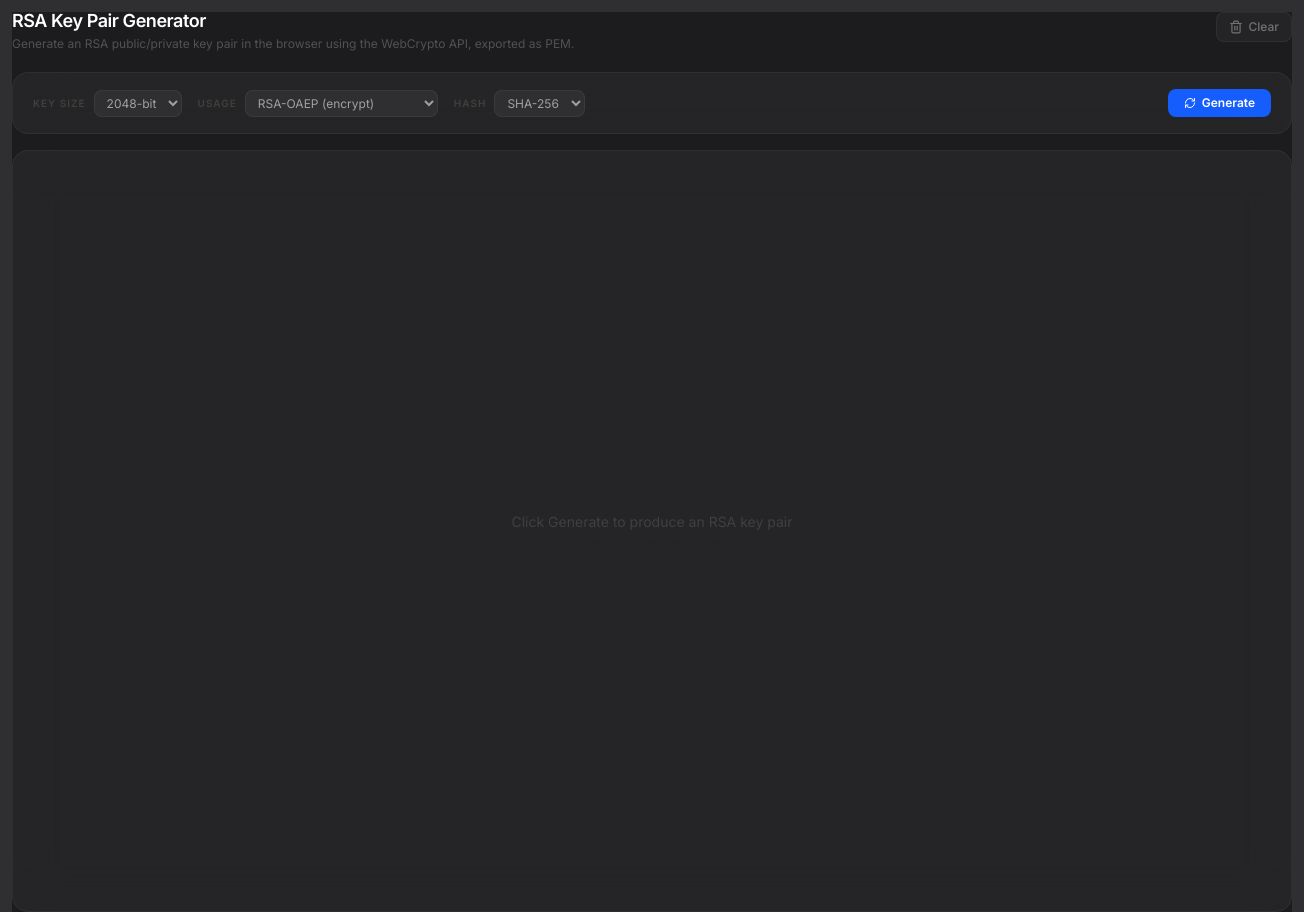
Test: RsaKeyPairGenerator › clears the generated key pair
Click the button "Generate" at (1219, 103), box [1168,89,1271,117]
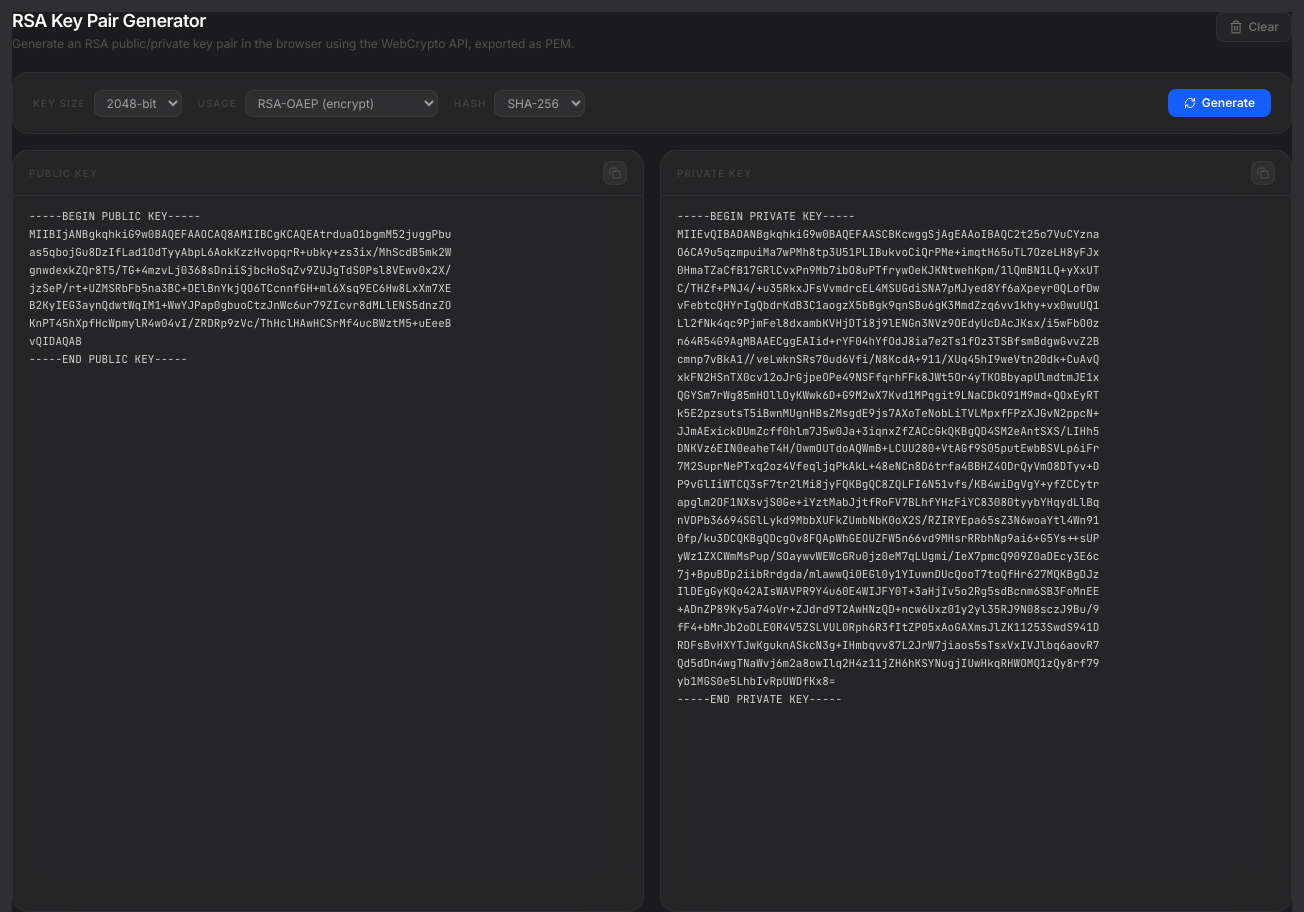
Expected: the text with test id "public-key" is shown, [29,209,451,366]
Click the button titled "Clear all" at (1254, 27), box [1216,12,1292,42]
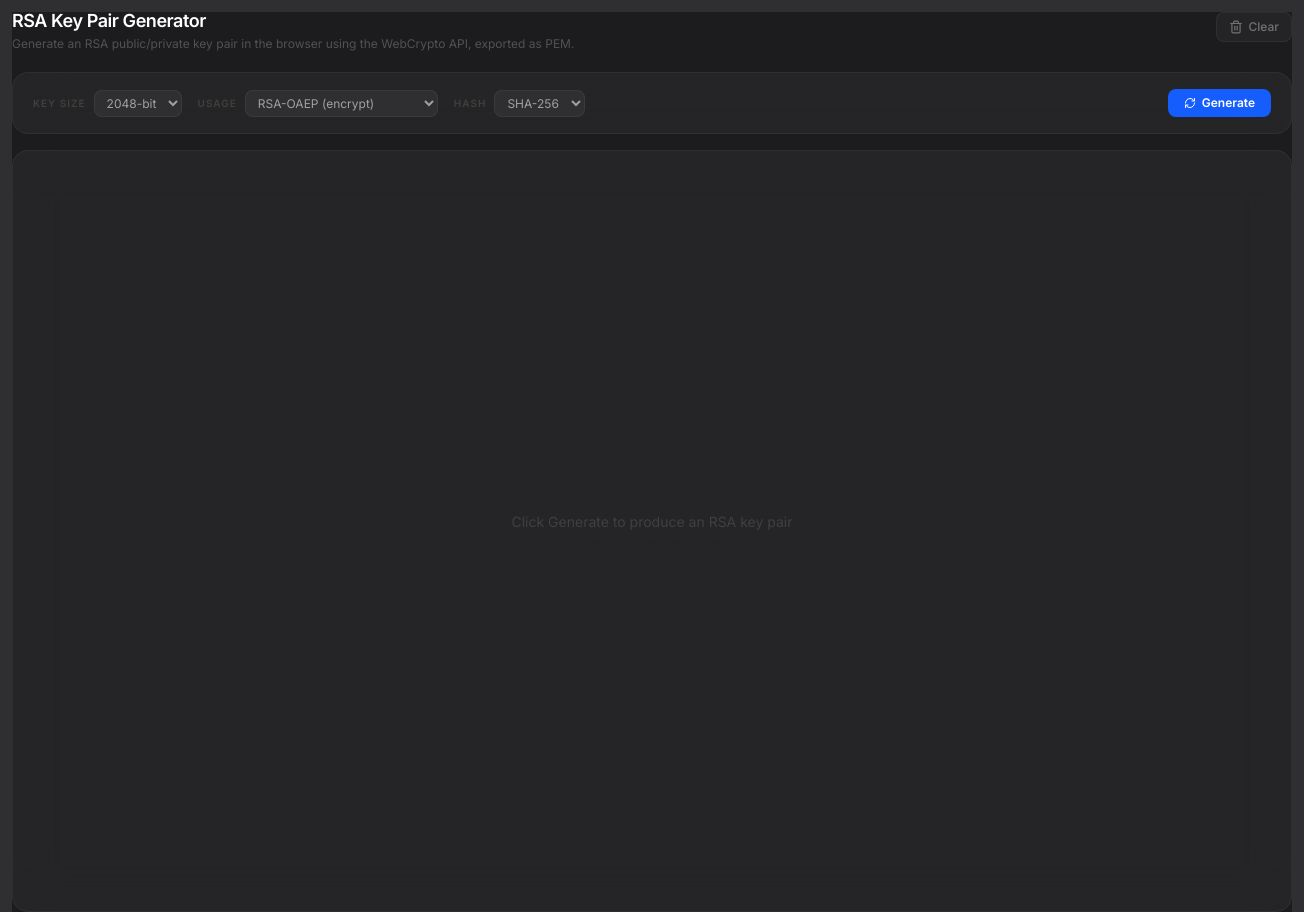
Expected: the text "Click Generate to produce an RSA key pair" is shown, [512,512,792,532]
